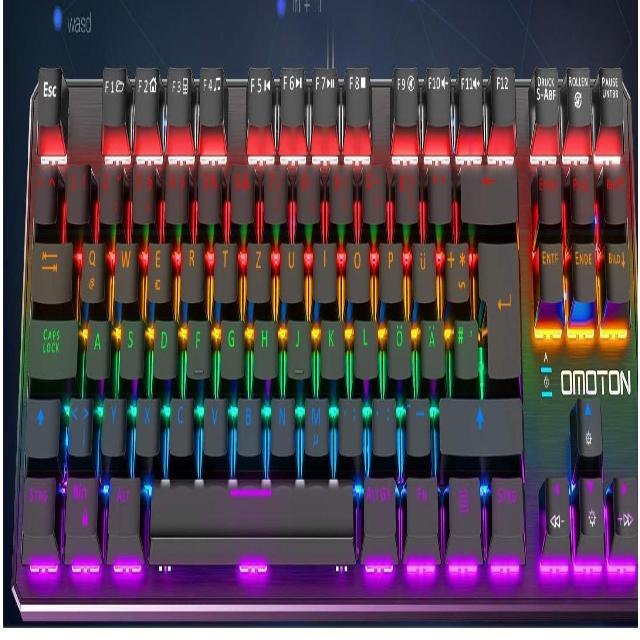0: (360, 157, 386, 222)
1: (63, 157, 89, 222)
2: (97, 158, 123, 223)
3: (130, 157, 155, 223)
4: (163, 158, 188, 222)
5: (196, 157, 221, 223)
6: (228, 159, 254, 222)
7: (262, 159, 287, 222)
8: (294, 158, 319, 223)
9: (326, 157, 352, 222)
a: (84, 315, 109, 377)
accent: (426, 159, 451, 222)
ae: (419, 316, 444, 377)
alt-left: (105, 470, 140, 550)
altgr-right: (360, 475, 397, 555)
b: (235, 392, 261, 454)
c: (166, 392, 193, 454)
caret: (31, 164, 56, 221)
comma: (336, 393, 362, 454)
d: (150, 315, 176, 378)
del: (458, 159, 516, 222)
e: (145, 237, 170, 301)
enter: (477, 233, 520, 380)
f: (184, 316, 210, 378)
g: (218, 316, 243, 378)
h: (252, 317, 277, 377)
hash: (453, 315, 478, 379)
i: (311, 237, 336, 300)
j: (285, 316, 310, 378)
k: (318, 315, 344, 378)
keyboard: (9, 51, 637, 607)
l: (352, 316, 377, 377)
less: (65, 393, 92, 454)
m: (302, 391, 328, 456)
minus: (404, 394, 429, 455)
n: (268, 392, 294, 454)
o: (344, 237, 369, 300)
oe: (385, 316, 411, 378)
p: (377, 237, 402, 300)
plus: (444, 238, 469, 304)
point: (370, 393, 395, 454)
q: (78, 237, 104, 302)
r: (178, 237, 203, 301)
s: (117, 315, 143, 377)
shift-left: (22, 393, 59, 456)
shift-lock: (26, 315, 77, 377)
shift-right: (436, 393, 522, 453)
space: (144, 479, 356, 537)
ss: (392, 160, 418, 223)
strg-left: (20, 471, 55, 535)
strg-right: (488, 470, 524, 554)
t: (211, 237, 236, 300)
tab: (29, 236, 72, 301)
u: (277, 237, 303, 301)
ue: (409, 236, 435, 301)
v: (201, 392, 226, 454)
w: (112, 238, 137, 302)
x: (133, 393, 158, 454)
y: (99, 393, 125, 453)
z: (245, 237, 270, 301)
